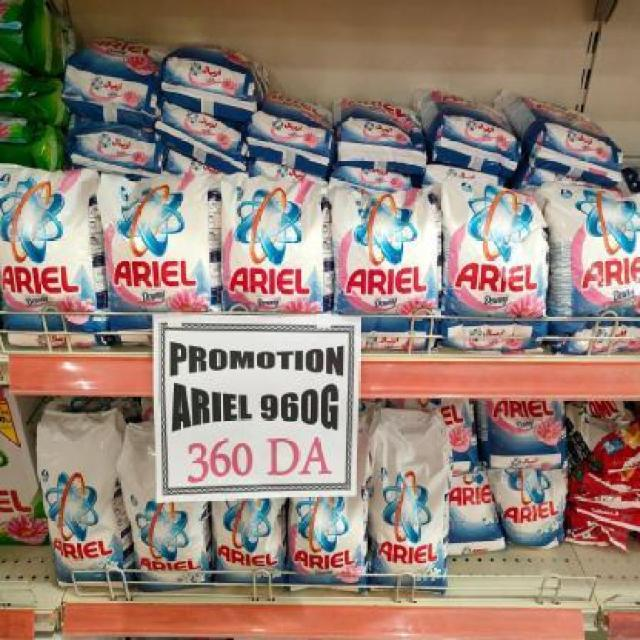Detergent: (104, 170, 222, 330), (442, 173, 548, 342), (219, 175, 344, 314), (0, 173, 106, 336), (36, 400, 124, 585), (331, 188, 446, 320), (544, 182, 638, 328), (371, 422, 454, 587), (122, 422, 210, 576), (506, 81, 626, 185), (418, 48, 520, 168), (158, 30, 274, 116), (283, 490, 374, 592), (69, 23, 160, 125), (334, 90, 432, 184), (152, 96, 245, 184), (478, 396, 576, 473), (252, 83, 334, 172), (492, 469, 574, 551), (208, 495, 283, 583), (68, 113, 160, 184), (442, 472, 506, 551)
